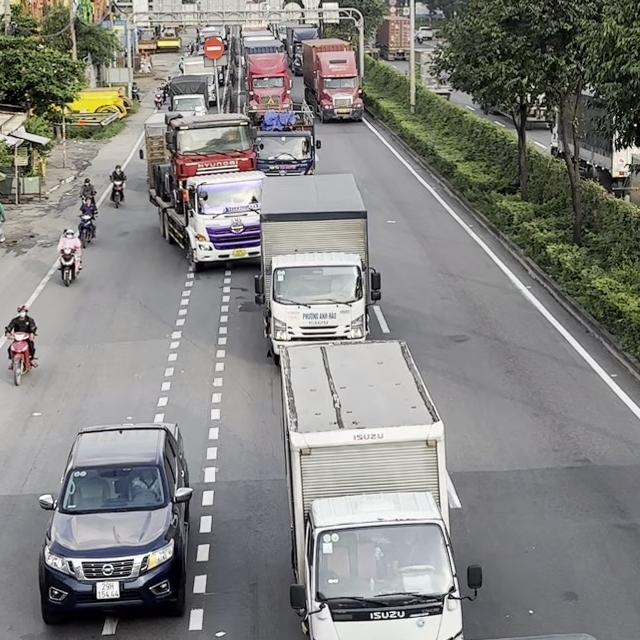car: (37, 421, 193, 625)
motorcycle: (4, 328, 37, 385), (58, 244, 81, 287), (77, 213, 95, 248), (109, 175, 126, 208), (80, 189, 94, 208)
truck: (277, 337, 477, 639), (253, 172, 381, 361), (144, 111, 265, 271), (252, 96, 321, 176), (301, 37, 364, 122), (240, 36, 294, 122), (164, 72, 217, 112), (285, 24, 319, 76), (376, 15, 411, 60)
